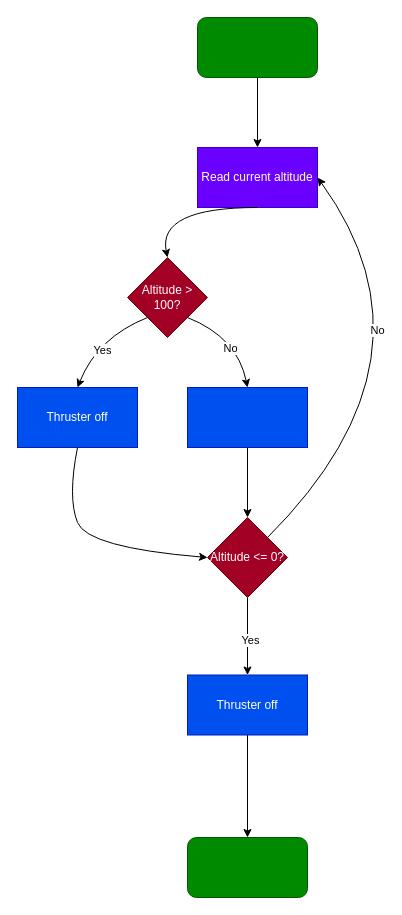
The diagram is 402 pixels wide and 915 high, and some of its shapes have lost their labels. The centre of each missing label's shape, as x and y in pixels:
End: point (247, 867)
Start: point (257, 47)
Thruster on: point (247, 417)
